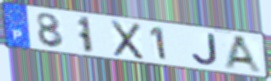1: (76, 15, 96, 55), (148, 26, 168, 63)
8: (35, 12, 66, 50)
A: (222, 34, 265, 76)
J: (190, 32, 220, 67)
X: (109, 18, 145, 61)
